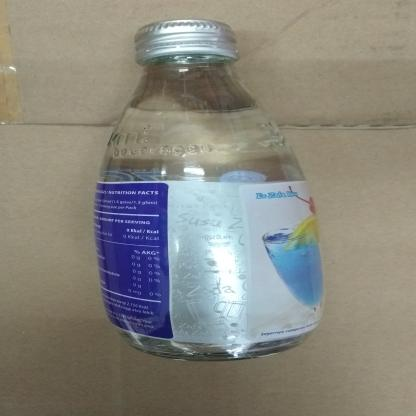glass: (87, 16, 334, 367)
